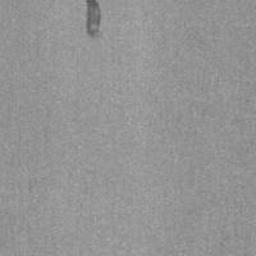Inclusion: (84, 0, 102, 38)
